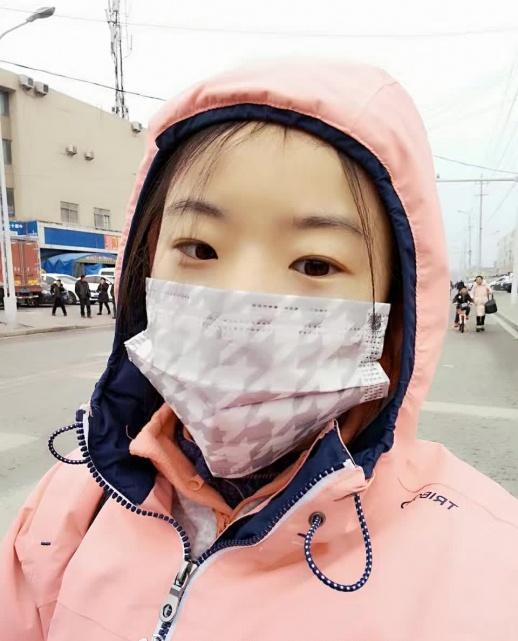OK: (132, 192, 393, 466)
